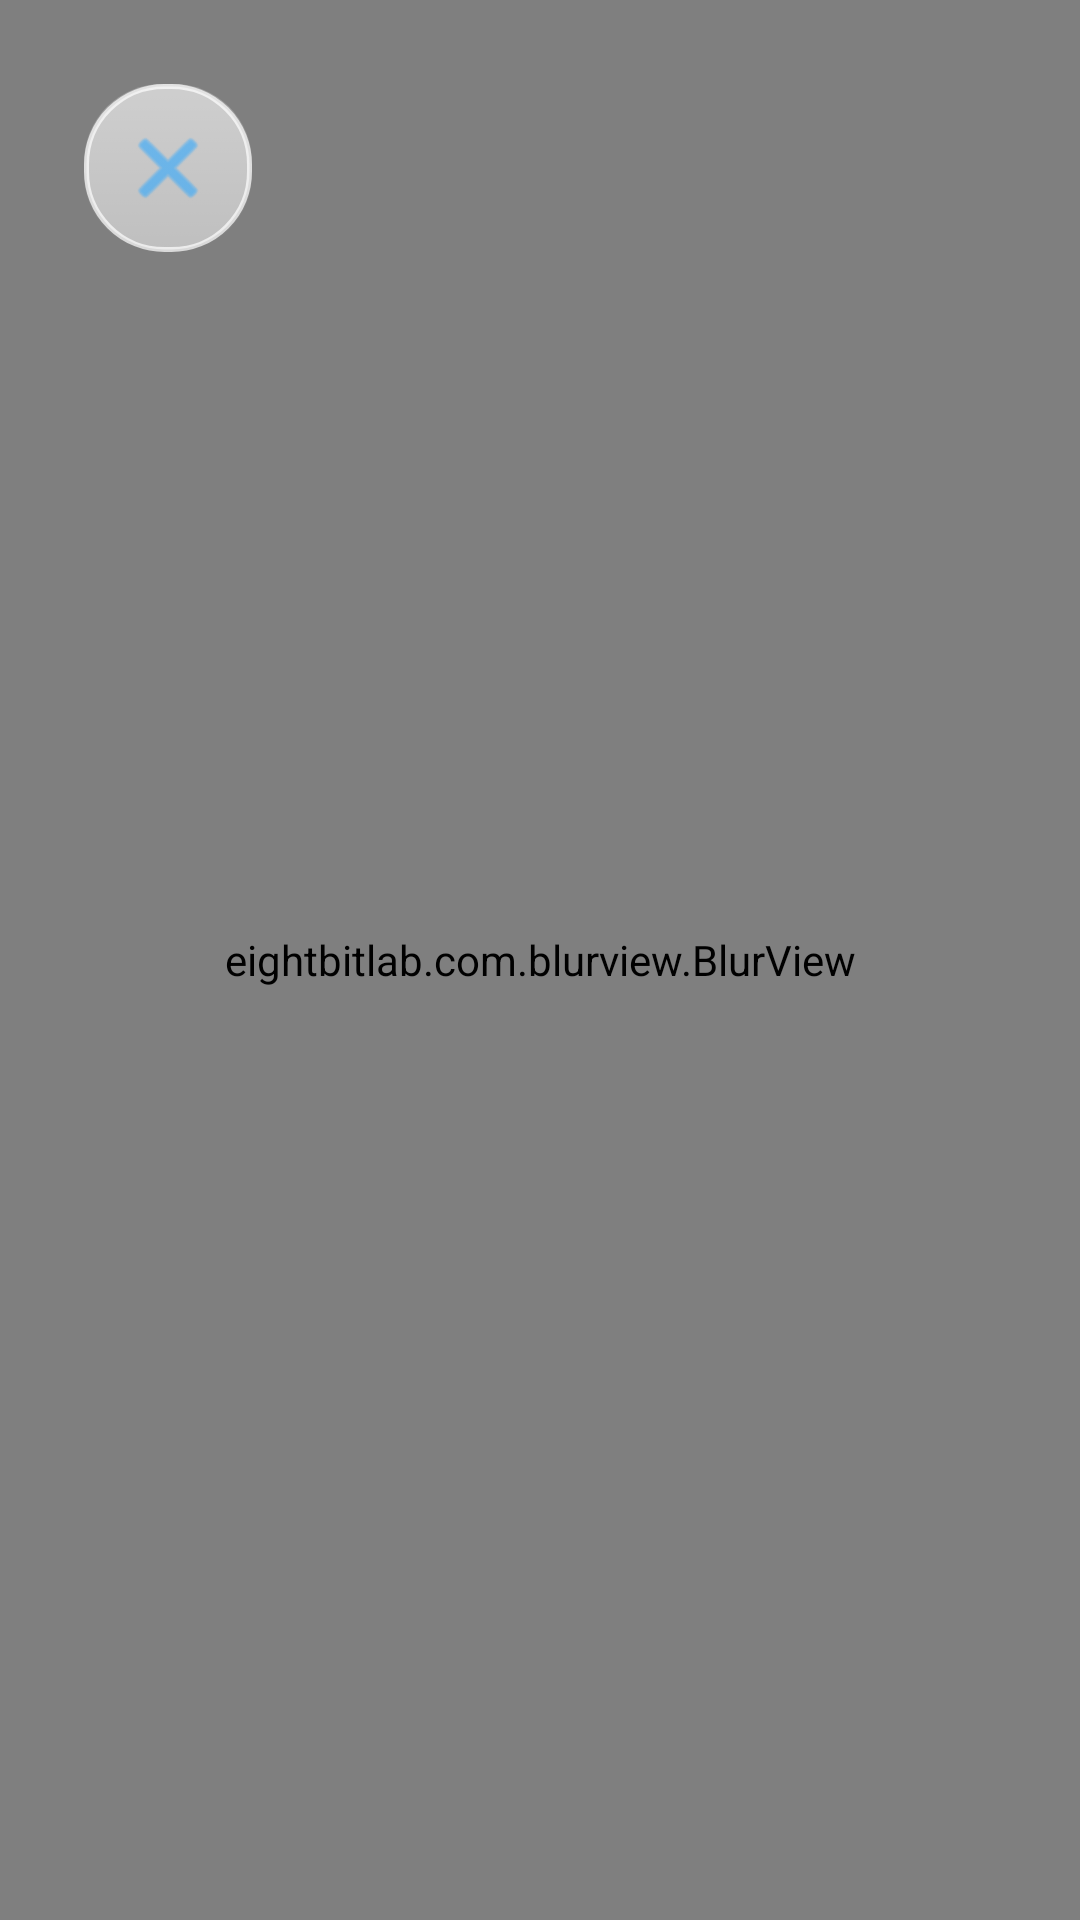

Where icons sit on this 1080px×1920px app screen, as BBox(x1, y1, x2, y2):
종료: BBox(84, 84, 252, 252)
